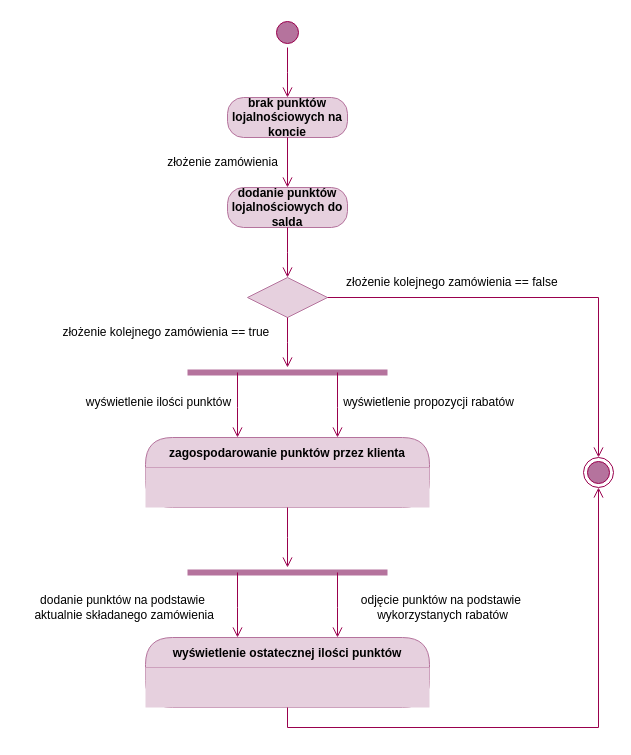
This 631x755 diagram has some shape labels left out. Each missing label, with the centre of its shape:
wybór rabatu wyświetlenie zaoszczędzonej kwoty: point 287,487
wyświetlenie pozycji w rankingu najaktywniejszych klientów: point 287,687
